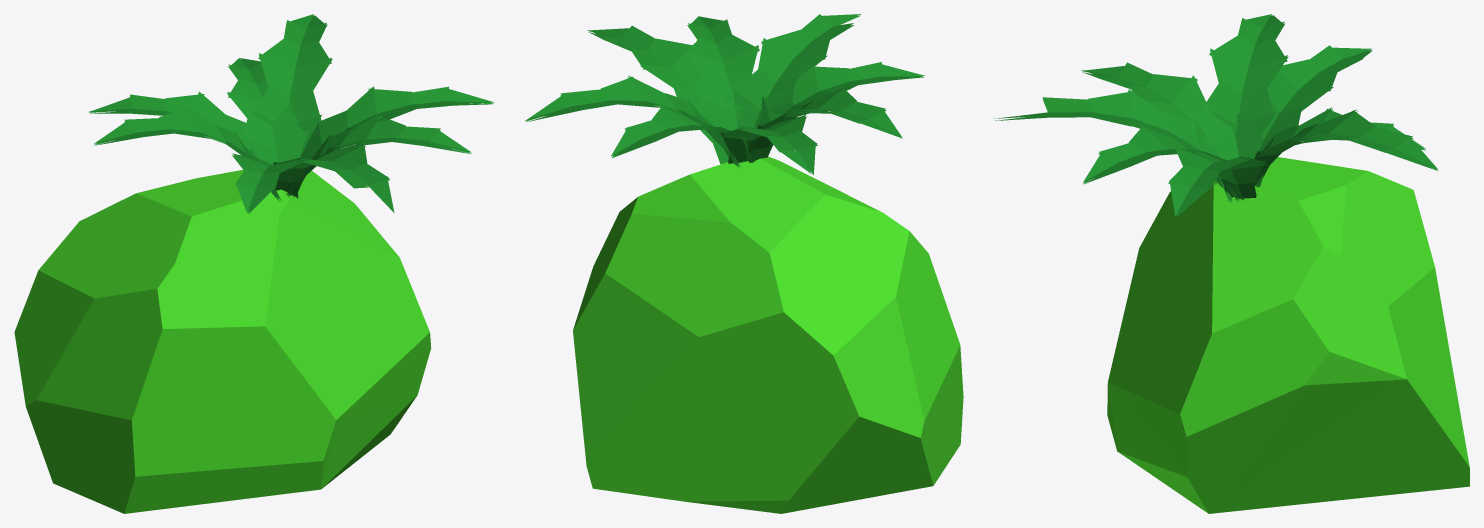
Rendered from FernRock.fbx.
The picture shows the model from 3 angles, left to right: view 1: azimuth 30°, elevation 25°; view 2: azimuth 150°, elevation 25°; view 3: azimuth 270°, elevation 25°; orthographic projection. The views are drawn at different scales.
Parts seen in each view (by area): view 1: FernRock, FernRock_Fern; view 2: FernRock, FernRock_Fern; view 3: FernRock, FernRock_Fern.
Part boxes in pixels (box(x1,y1,x2,y2)): FernRock: box(14, 170, 431, 513); FernRock_Fern: box(89, 14, 494, 213); FernRock: box(573, 156, 963, 513); FernRock_Fern: box(525, 14, 924, 174); FernRock: box(1107, 157, 1469, 513); FernRock_Fern: box(994, 14, 1437, 216).
Size of the model in its own units: 9.15 by 7.57 by 8.79.
